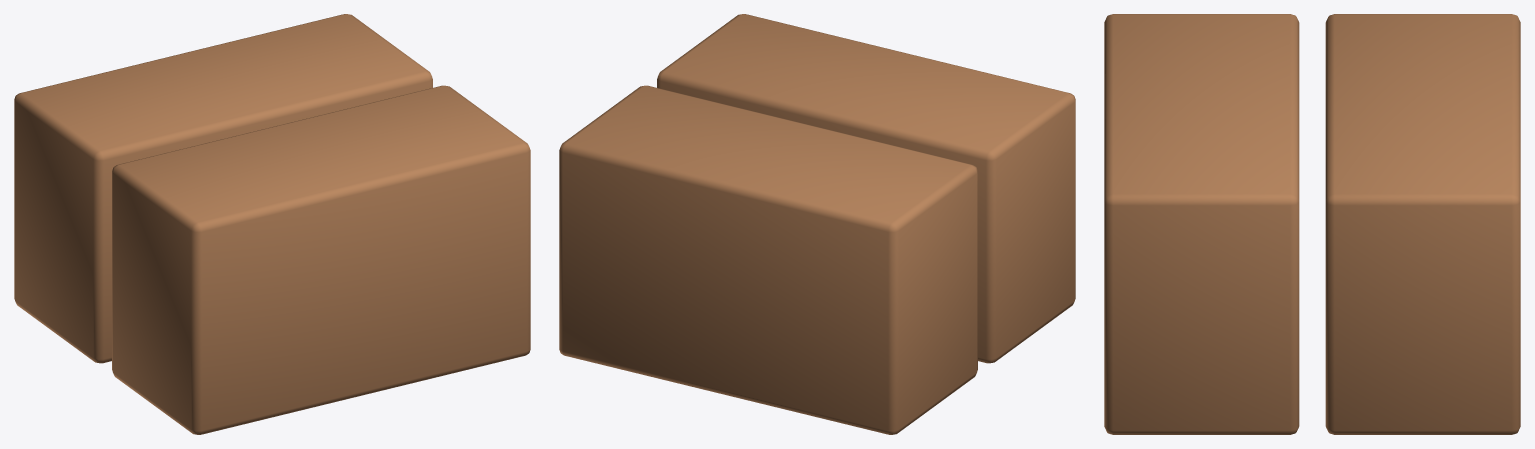
Rendered from deck.glb.
3 renders of one model, left to right at view 1: azimuth 30°, elevation 25°; view 2: azimuth 150°, elevation 25°; view 3: azimuth 270°, elevation 25°, orthographic. The views are drawn at different scales.
Visible parts, largest first — view 1: Deck_Planks; view 2: Deck_Planks; view 3: Deck_Planks.
Part boxes in pixels (<box>): Deck_Planks: <box>14,14,530,434</box>; Deck_Planks: <box>559,14,1075,434</box>; Deck_Planks: <box>1104,14,1520,434</box>.
Size of the model in its own units: 1 by 0.6 by 0.94.
